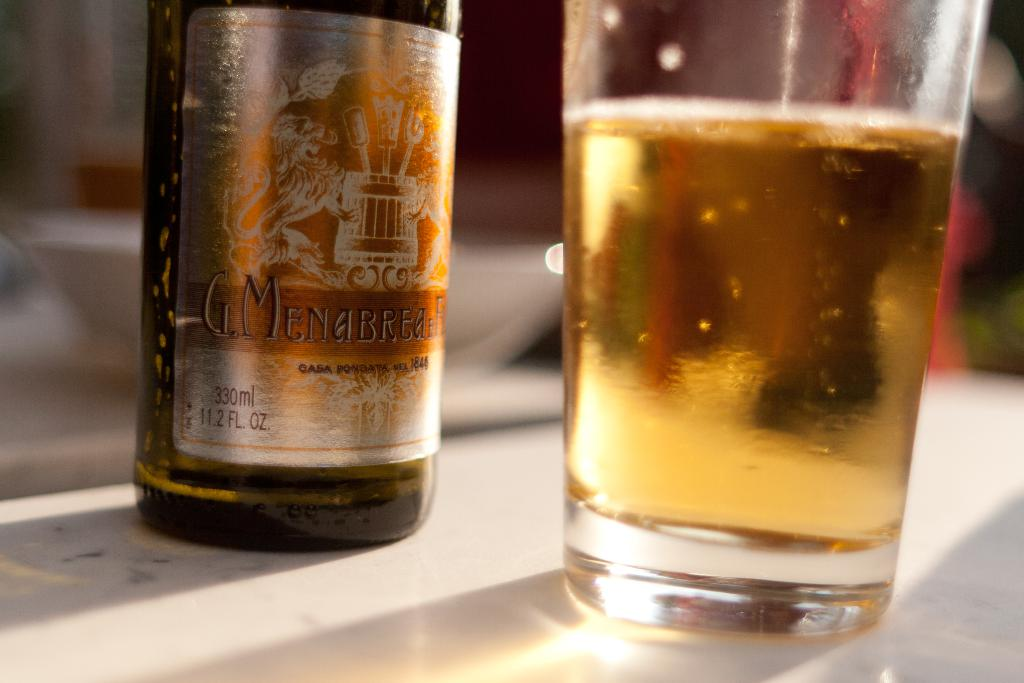Beer: (133, 0, 460, 552), (564, 98, 960, 552)
